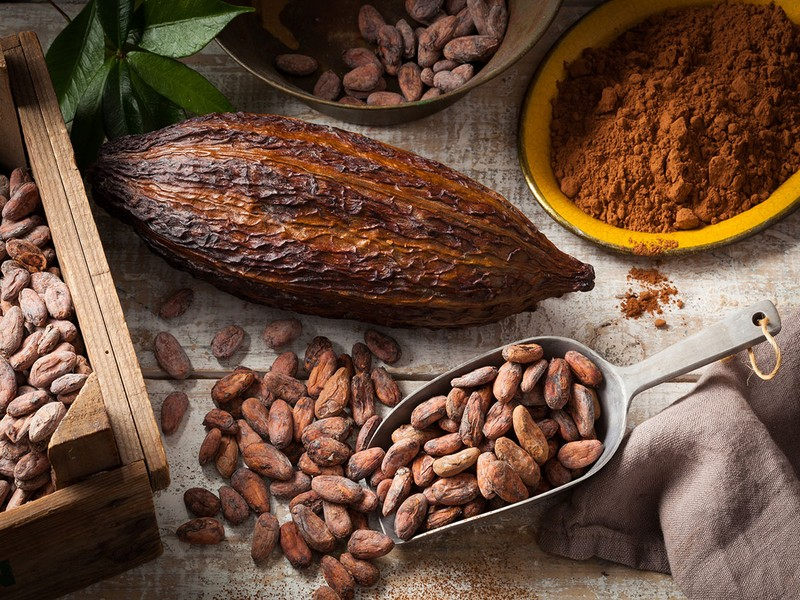Cacaopod: (91, 111, 598, 325)
